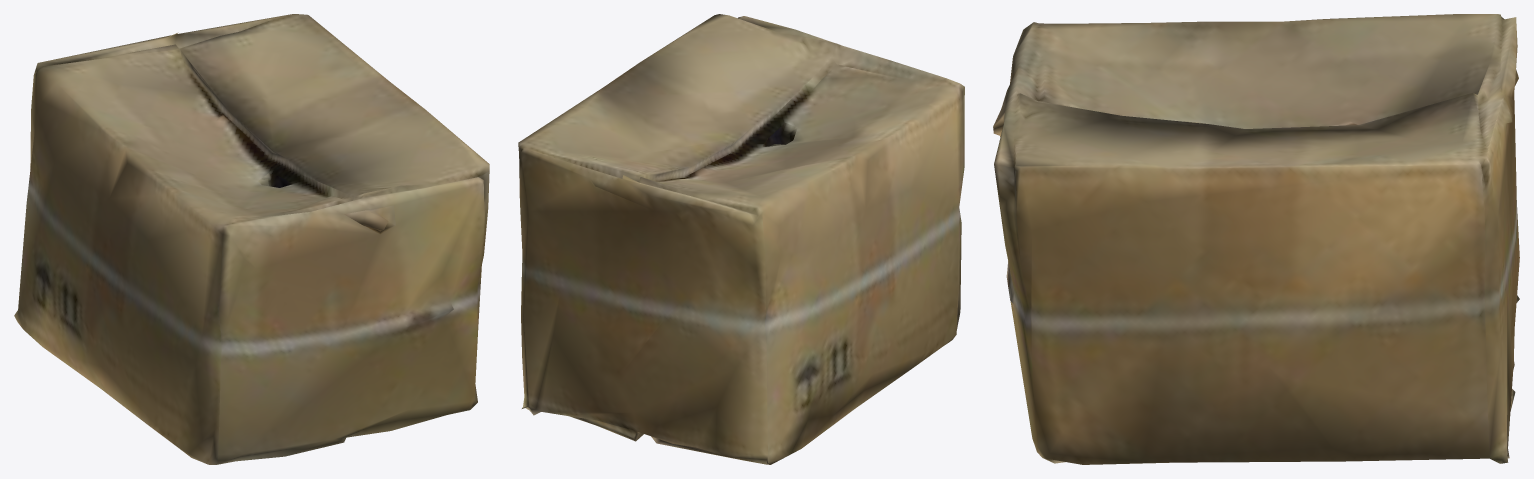
File: cardboard_box_01.glb
3 views of the same model, side by side, from view 1: azimuth 30°, elevation 25°; view 2: azimuth 150°, elevation 25°; view 3: azimuth 270°, elevation 25° (orthographic). The views are drawn at different scales.
Visible parts, largest first — view 1: cardboard_box_01; view 2: cardboard_box_01; view 3: cardboard_box_01.
Boxes of the visible parts, x1,y1,x2,y2 form: cardboard_box_01: [14, 14, 489, 464]; cardboard_box_01: [518, 14, 964, 464]; cardboard_box_01: [993, 14, 1519, 464].
Bounding box in the file's own units: 0.3854 × 0.3407 × 0.5159.
1 material, 1 textured.
